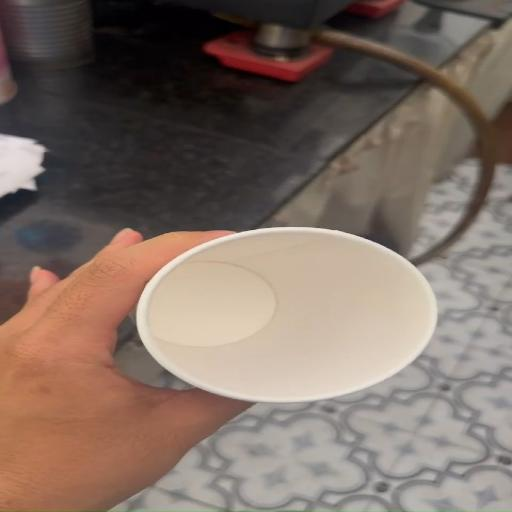Ly_giay: (133, 227, 435, 402)
